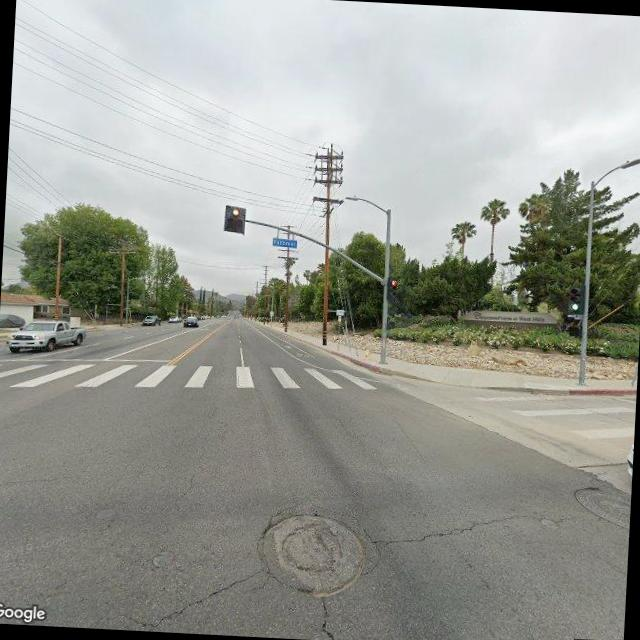crack: (367, 502, 592, 558), (141, 562, 268, 628), (310, 586, 359, 640)
